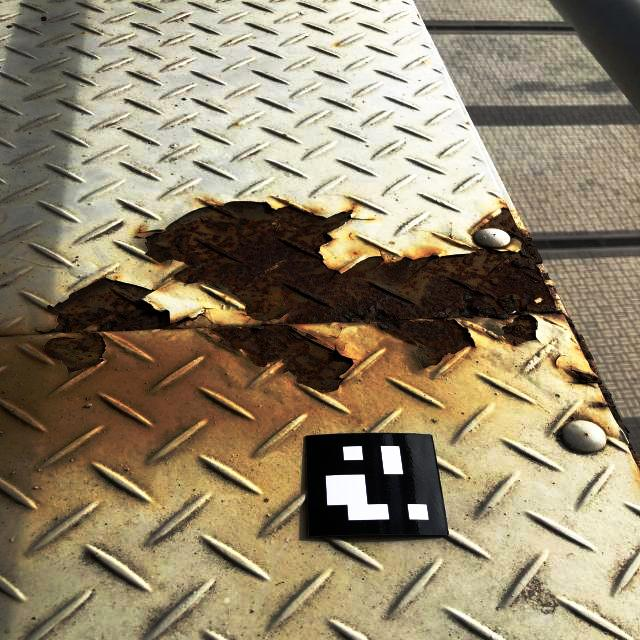Corrosion: (147, 202, 603, 393), (36, 278, 205, 373)
